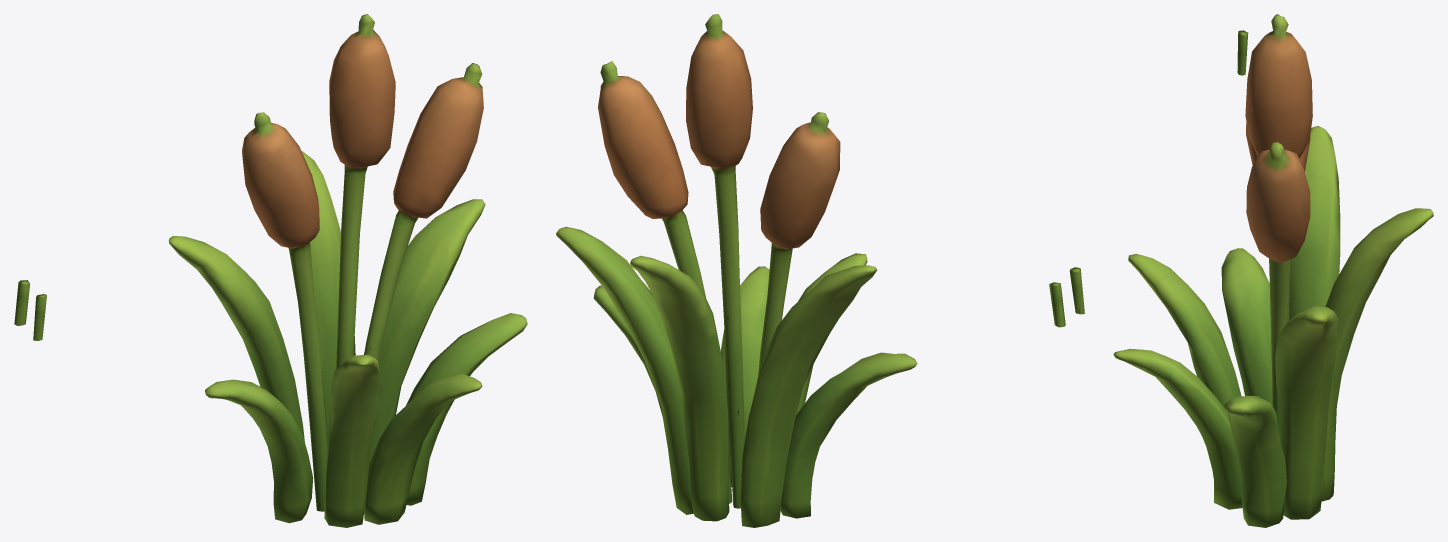
File: juncos_altos.glb
3 renders of one model, left to right at view 1: azimuth 30°, elevation 25°; view 2: azimuth 150°, elevation 25°; view 3: azimuth 270°, elevation 25°, orthographic.
Parts seen in each view (by area): view 1: juncos_altos; view 2: juncos_altos; view 3: juncos_altos.
Boxes of the visible parts, <box> form: juncos_altos: <box>14,14,527,527</box>; juncos_altos: <box>556,14,1084,527</box>; juncos_altos: <box>1113,14,1433,527</box>.
Size of the model in its own units: 0.4988 by 0.4752 by 0.2803.
1 material, 1 textured.
